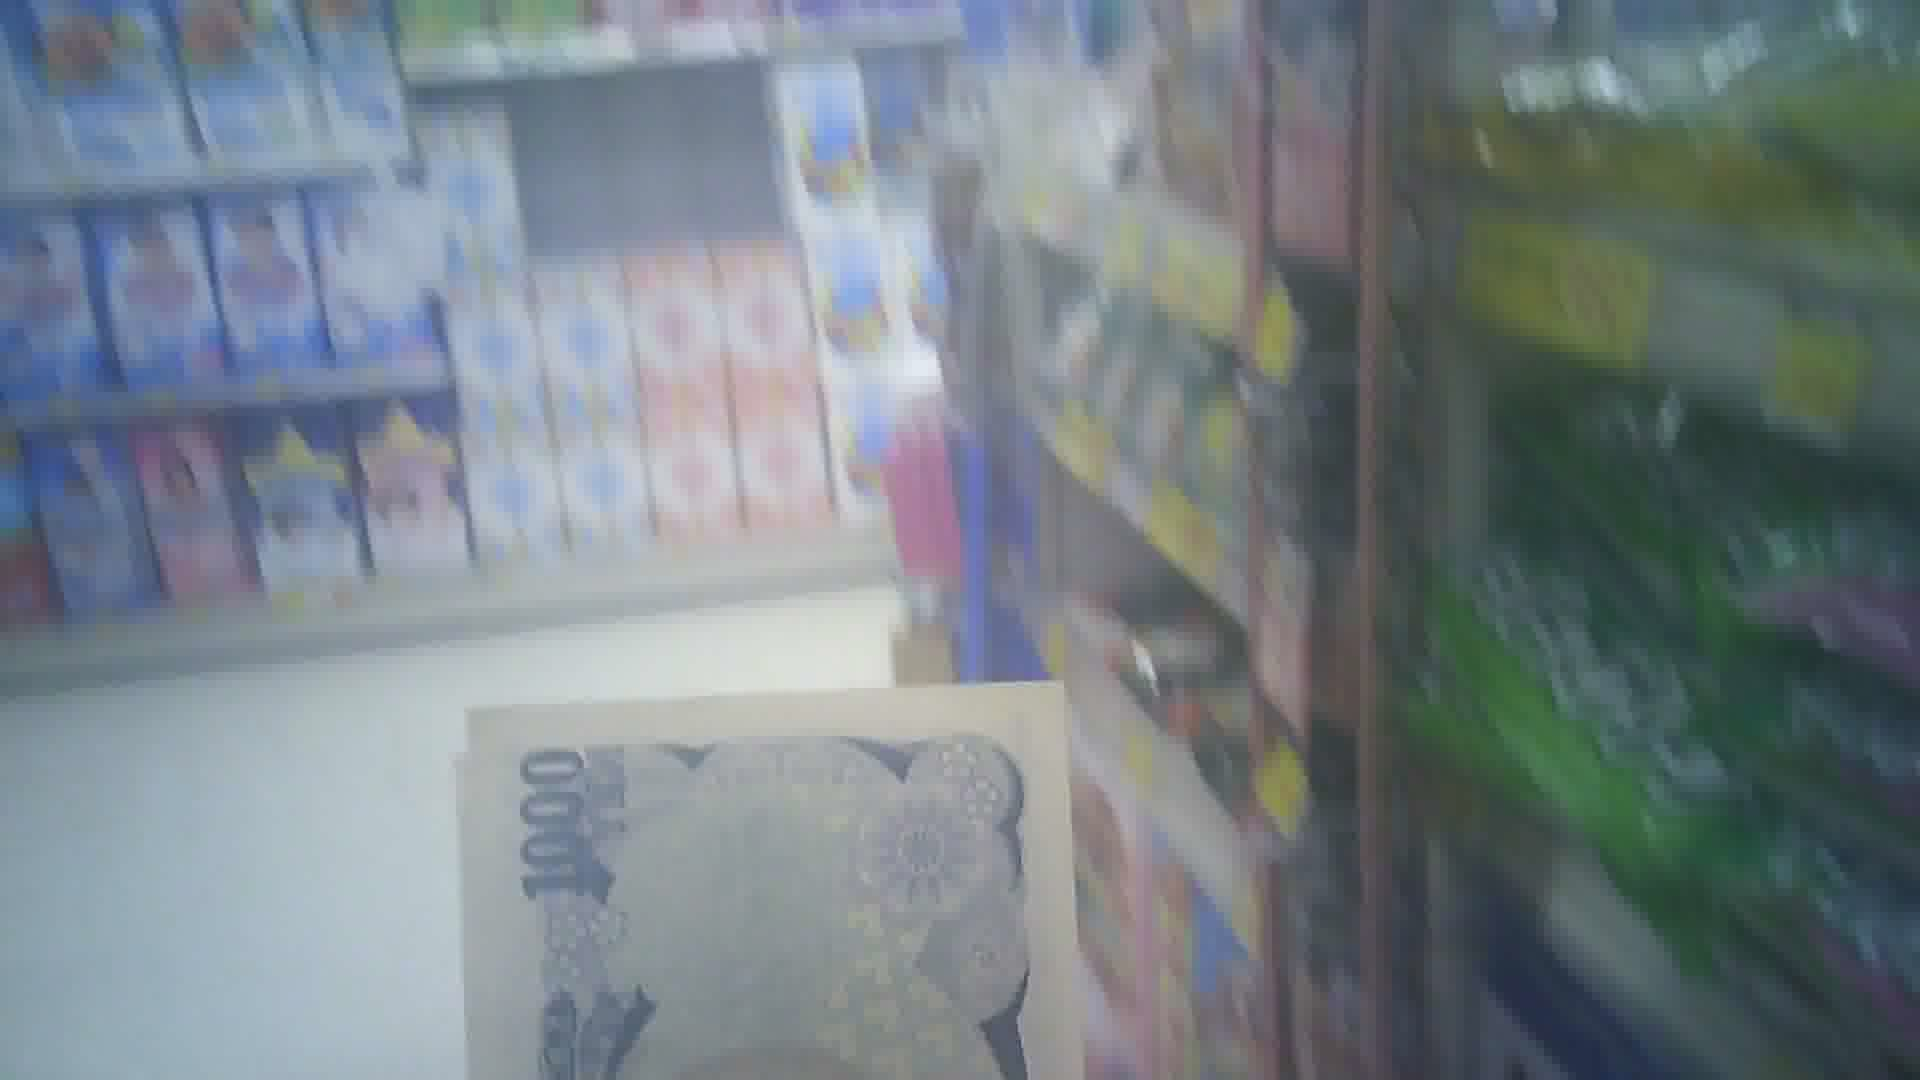1,000 Yen: (438, 676, 1098, 1067)
